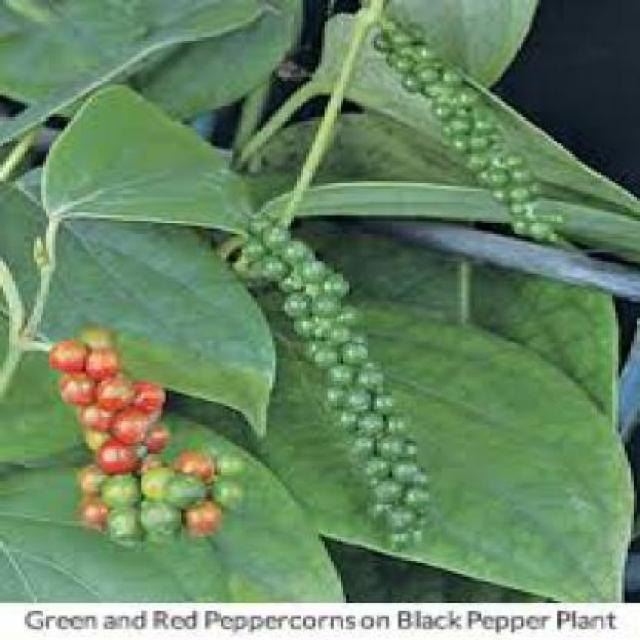RIPE: (40, 325, 226, 566)
UNRIPE: (232, 197, 423, 549), (359, 5, 573, 245)
